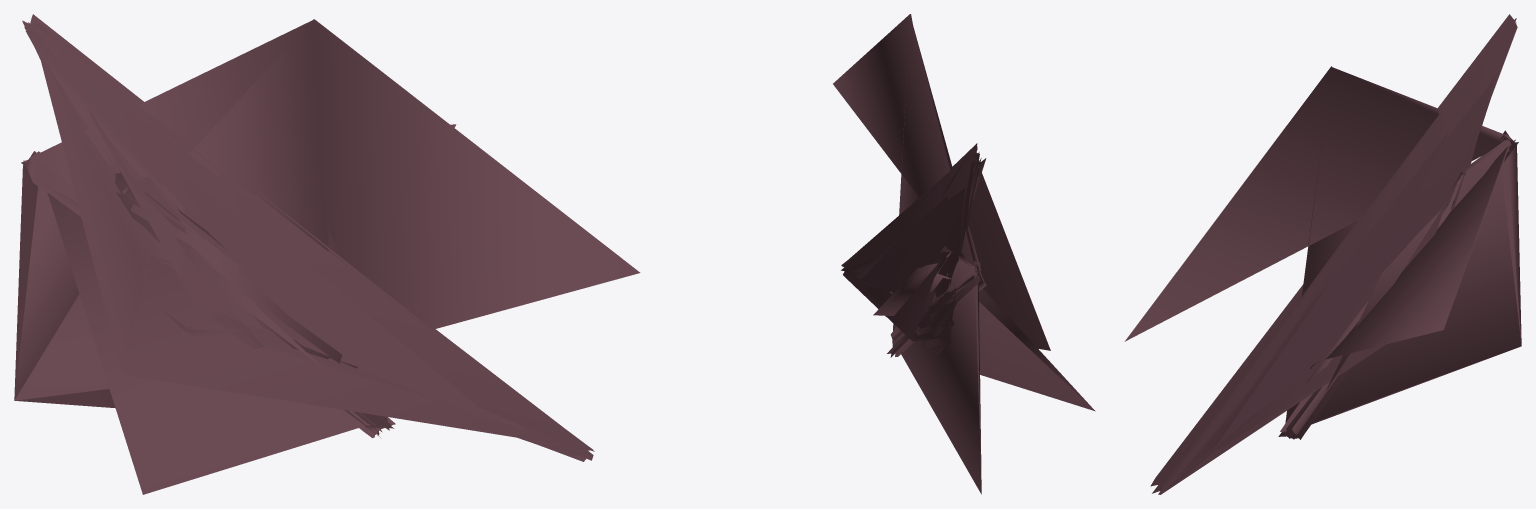
3 views of the same model, side by side, from view 1: azimuth 30°, elevation 25°; view 2: azimuth 150°, elevation 25°; view 3: azimuth 270°, elevation 25° (orthographic). The views are drawn at different scales.
Visible parts, largest first — view 1: ObjectCapture; view 2: ObjectCapture; view 3: ObjectCapture.
Part boxes in pixels (bbox=[...]): ObjectCapture: bbox=[14, 14, 640, 494]; ObjectCapture: bbox=[833, 14, 1095, 494]; ObjectCapture: bbox=[1124, 14, 1521, 494].
Bounding box in the file's own units: 0.9996 × 0.9995 × 0.9989.
